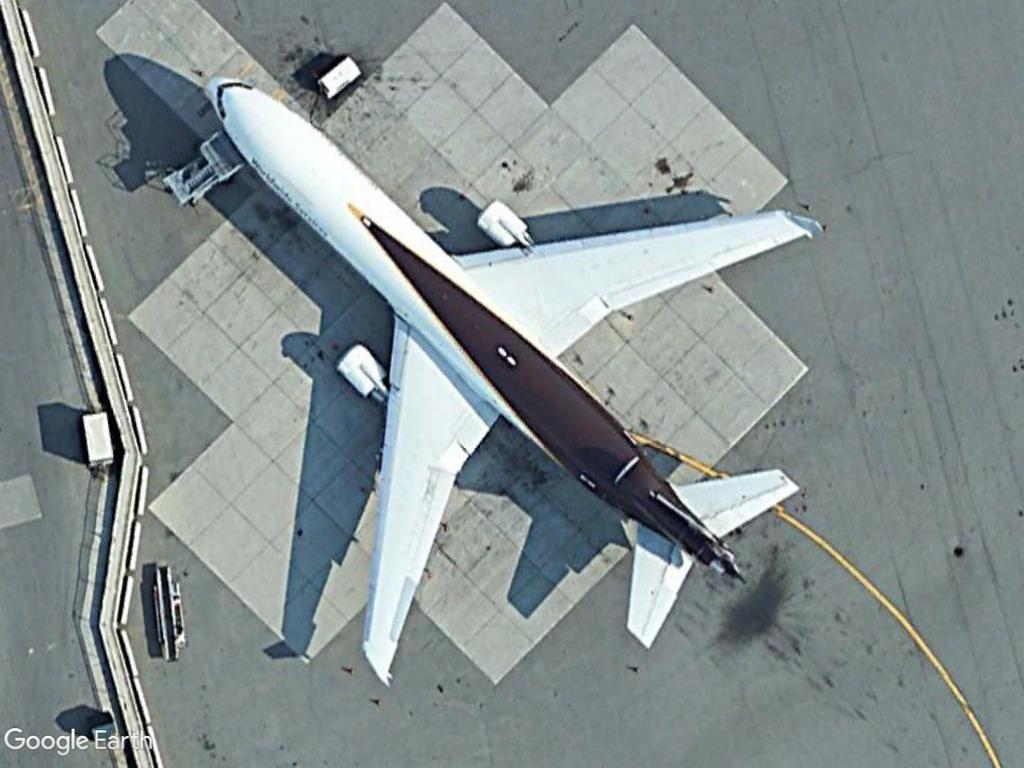airliner: (193, 63, 814, 693)
